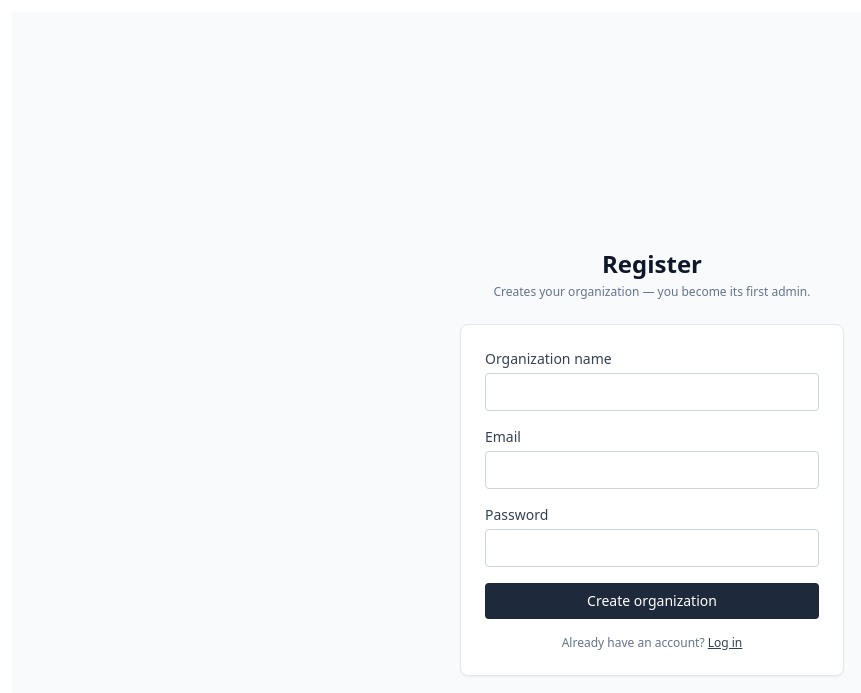
Test case: RegisterPage › registers and redirects on success
Type "Acme" into the field labelled "Organization name".
click(652, 392); type("Acme")  # box left=485, top=373, right=819, bottom=411
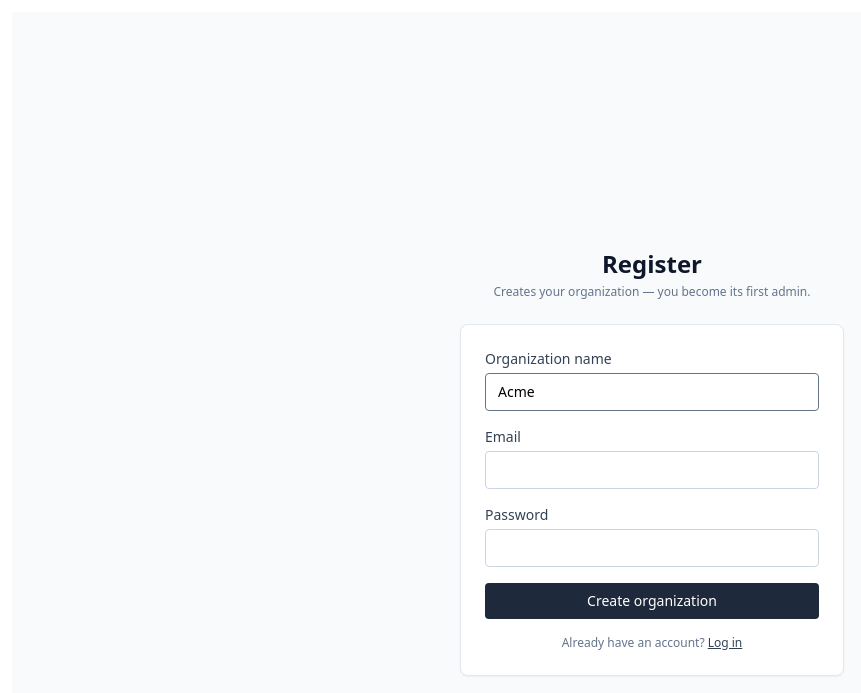
Type "a@example.com" into the field labelled "Email".
click(652, 470); type("a@example.com")  # box left=485, top=451, right=819, bottom=489
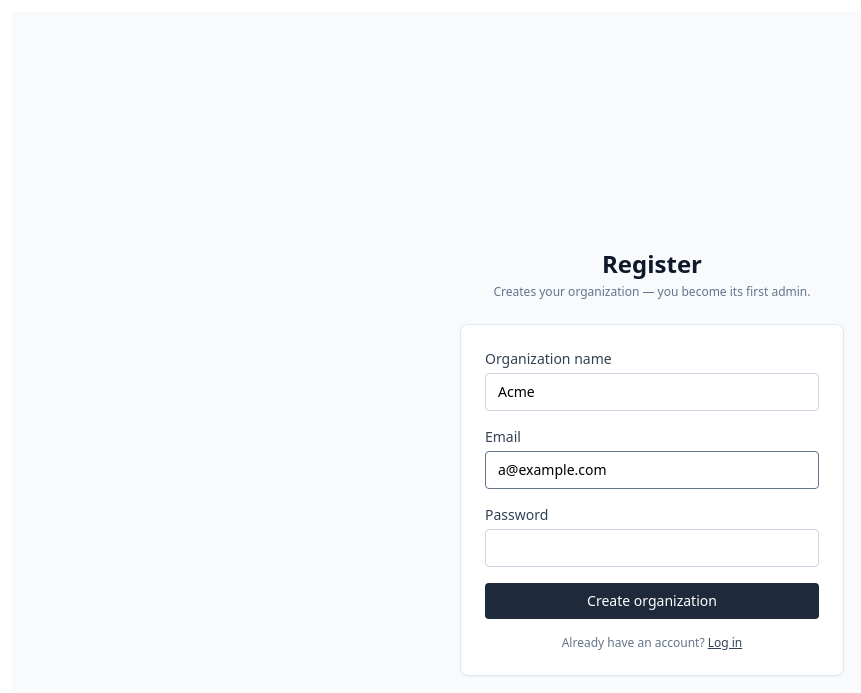
Type "longenough" into the password field labelled "Password".
click(652, 548); type("longenough")  # box left=485, top=529, right=819, bottom=567
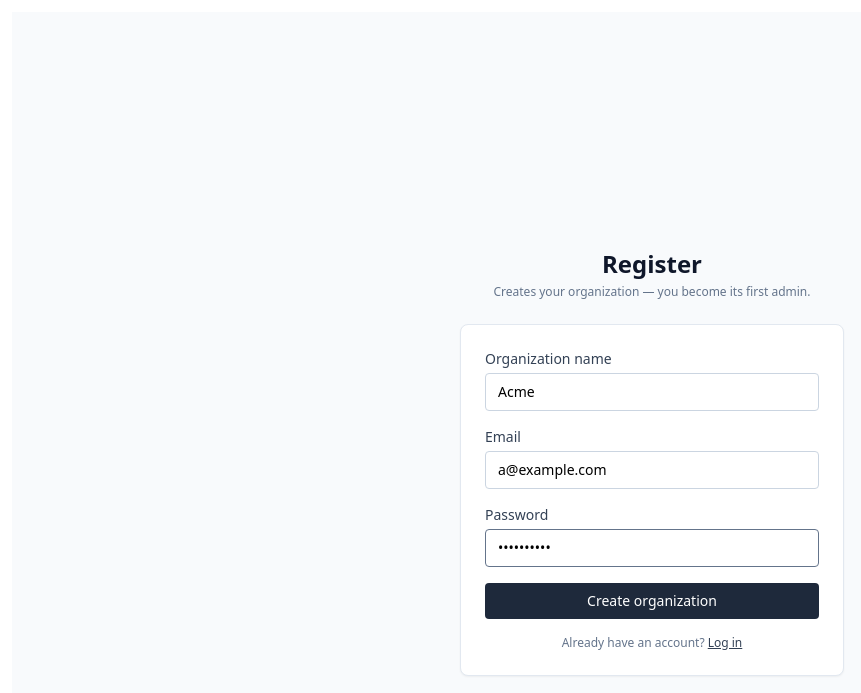
Click the button with test id "register-submit".
click(652, 601)  # box left=485, top=583, right=819, bottom=619
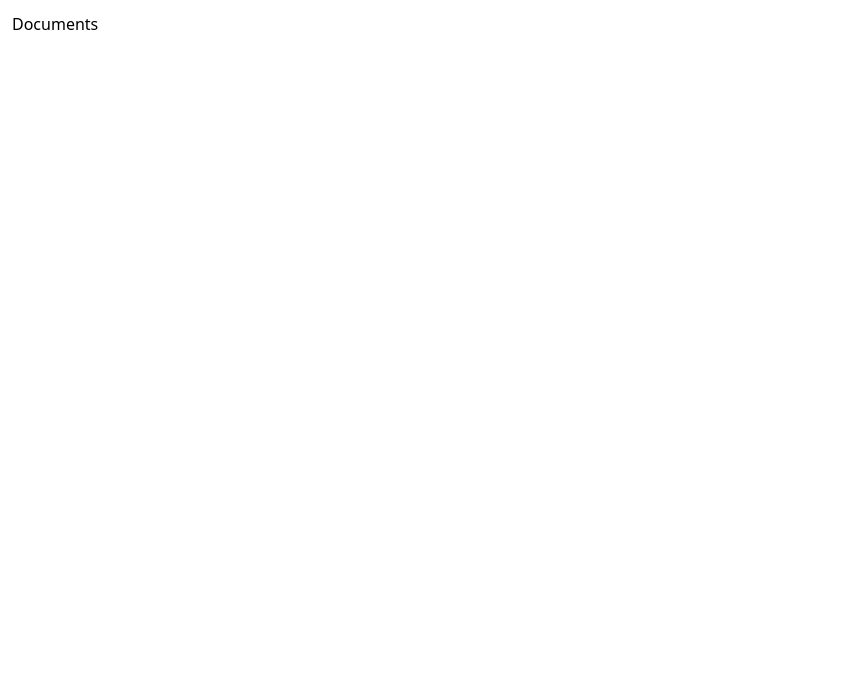
Result: the text "Documents" is shown at left=12, top=13, right=98, bottom=35
